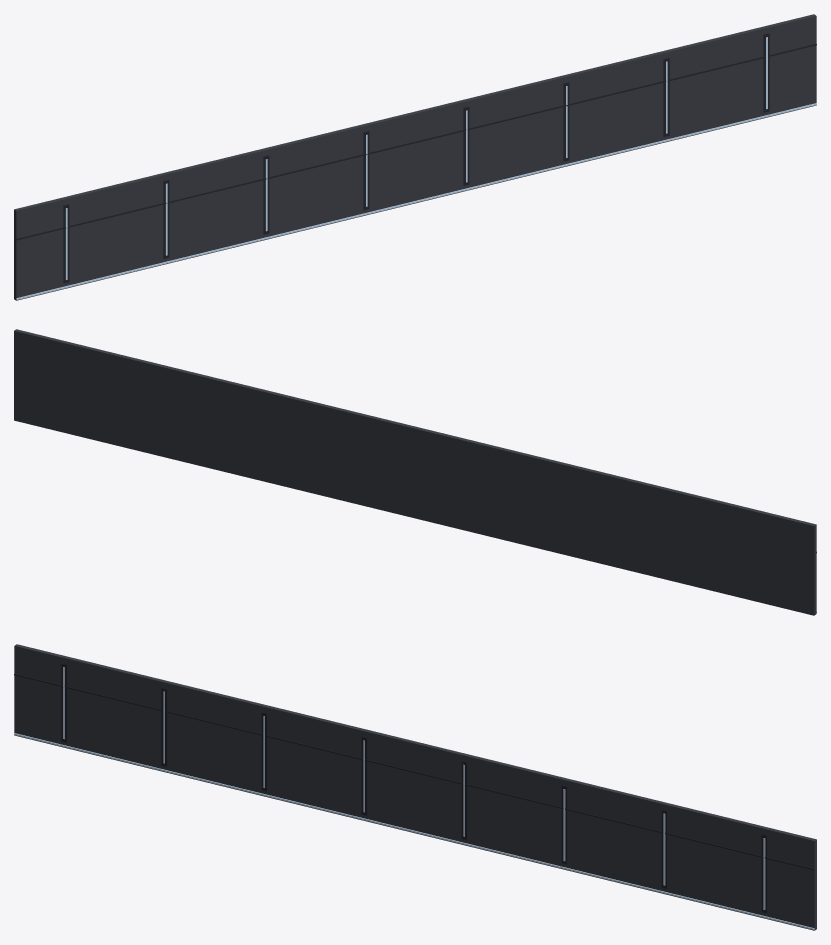
Rendered from bb_set_comp_backdrop.fbx.
The picture shows the model from 3 angles, top to bottom: view 1: azimuth 30°, elevation 25°; view 2: azimuth 150°, elevation 25°; view 3: azimuth 330°, elevation 25°; orthographic projection.
Visible parts, largest first — view 1: bb_set_comp_backdrop; view 2: bb_set_comp_backdrop; view 3: bb_set_comp_backdrop.
Boxes of the visible parts, box(x1,y1,x2,y2) form: bb_set_comp_backdrop: box(14, 14, 816, 300); bb_set_comp_backdrop: box(14, 329, 816, 615); bb_set_comp_backdrop: box(14, 644, 816, 930).
Bounding box in the file's own units: 28 × 3 × 0.17.
